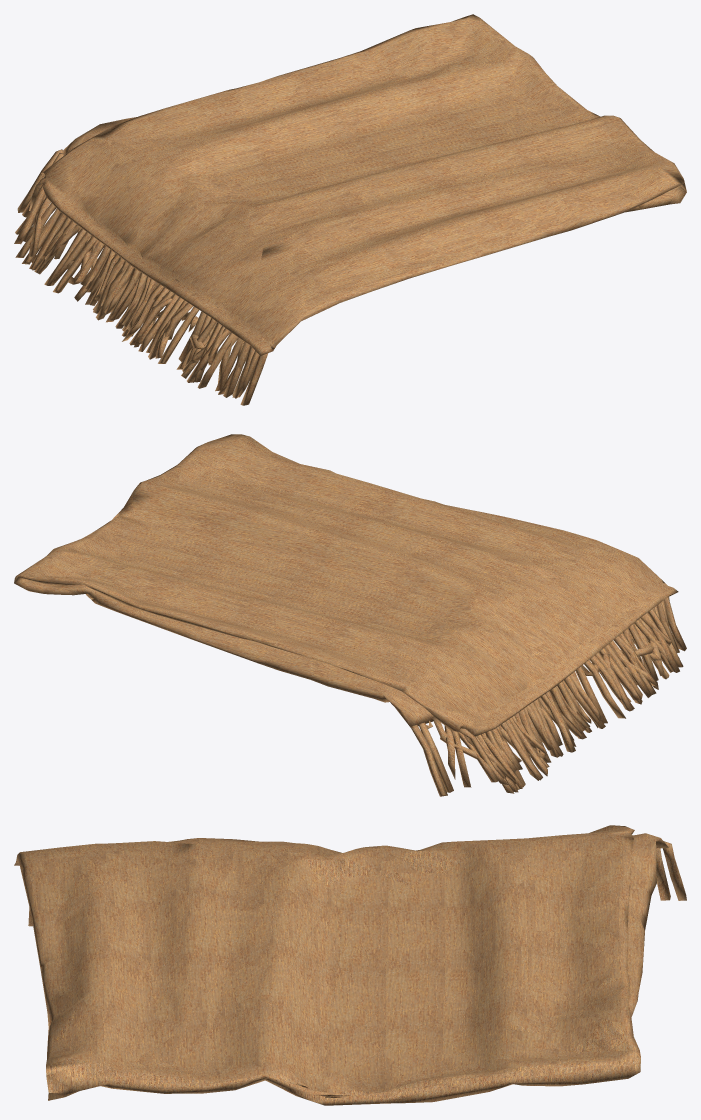
The model's file is Camel_Nomad_Throw.glb.
3 renders of one model, top to bottom at view 1: azimuth 30°, elevation 25°; view 2: azimuth 150°, elevation 25°; view 3: azimuth 270°, elevation 25°, orthographic. The views are drawn at different scales.
Visible parts, largest first — view 1: 3DGeom~1_Defintion; view 2: 3DGeom~1_Defintion; view 3: 3DGeom~1_Defintion.
Boxes of the visible parts, x1,y1,x2,y2 form: 3DGeom~1_Defintion: (14,14,686,405); 3DGeom~1_Defintion: (14,434,686,796); 3DGeom~1_Defintion: (14,825,686,1105).
Size of the model in its own units: 0.9198 by 0.2345 by 0.7758.
Materials: 1 (1 with a texture image).
